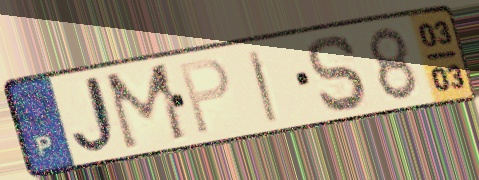8: (364, 24, 423, 103)
I: (244, 47, 281, 126)
J: (70, 71, 126, 159)
M: (101, 60, 193, 155)
P: (176, 55, 233, 139)
S: (306, 32, 373, 114)
